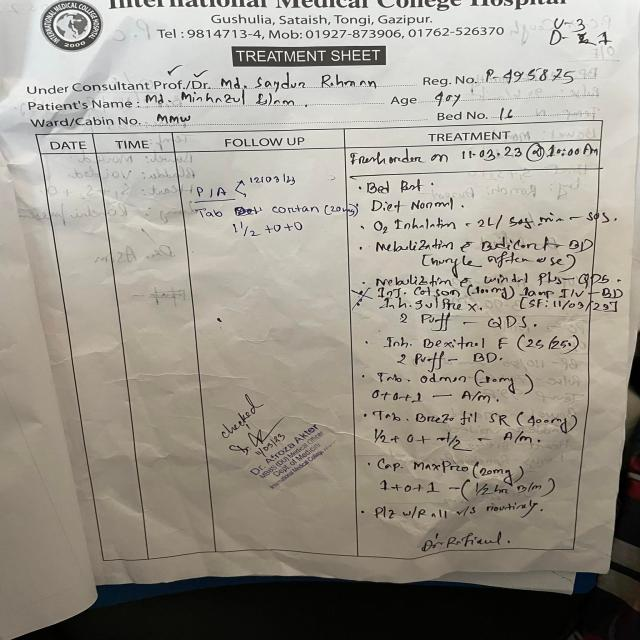Bexitrol F: (417, 335, 509, 351)
Brezofil: (413, 411, 482, 432)
Cotson: (411, 286, 461, 300)
Maxpro: (413, 456, 470, 475)
Odmon: (417, 374, 468, 386)
Sulprex: (408, 297, 480, 313)
